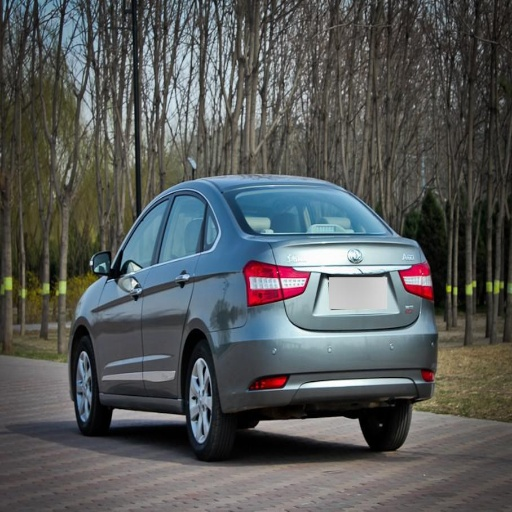back_bumper: (215, 297, 436, 408)
back_glass: (226, 185, 392, 235)
back_left_door: (143, 188, 210, 396)
tailgate: (271, 235, 416, 331)
